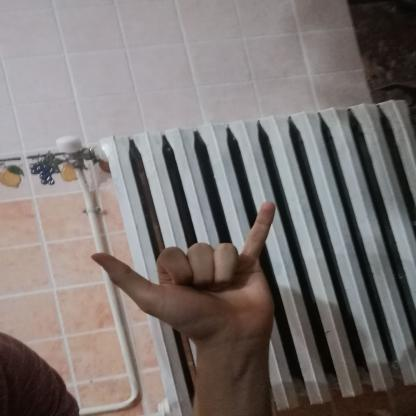YA: (75, 194, 301, 355)
